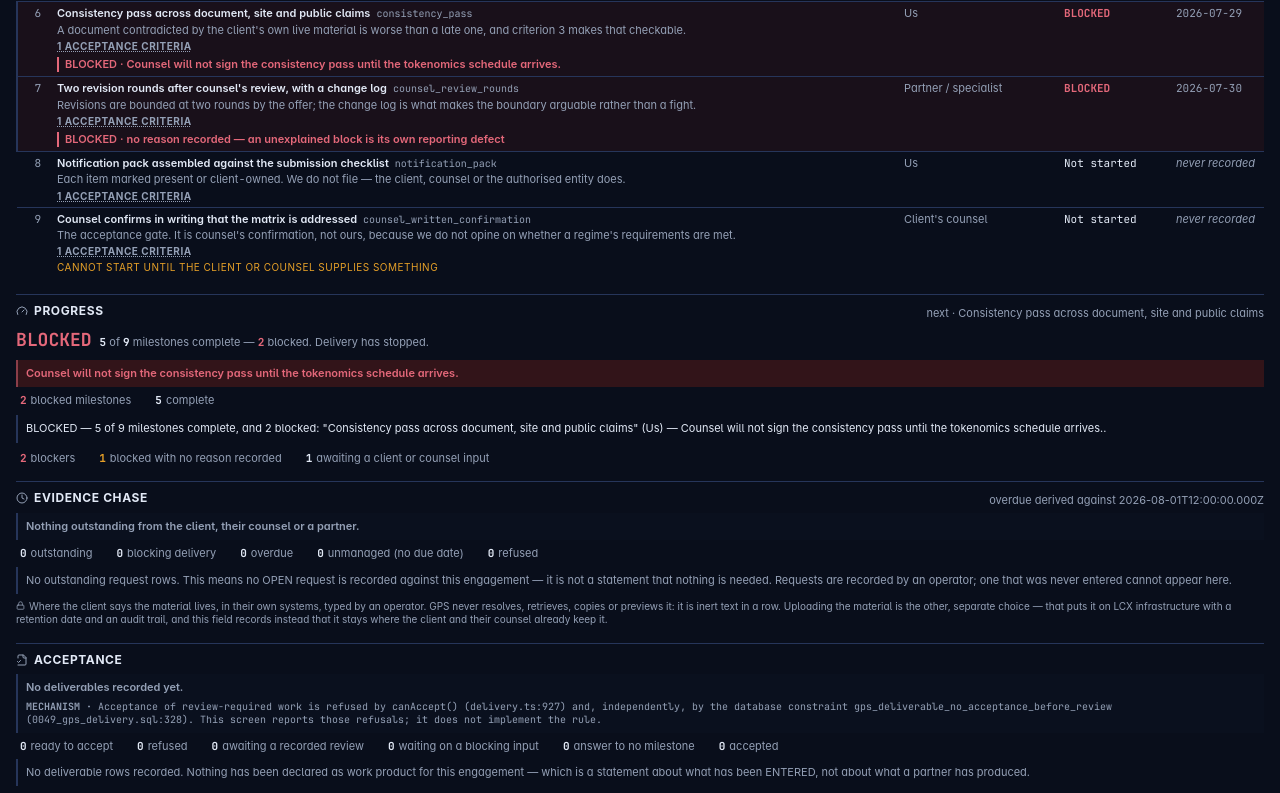
blocked is not a shade of not-started › keeps the arithmetic available in the drawer — refusing to lead with a number is not hiding it
This screenshot has width=1280, height=793.
(page scrolled)
Click the button with aria-label "5 complete — open the rows" at [185, 400], box top-left (151, 393), bottom-right (218, 407)
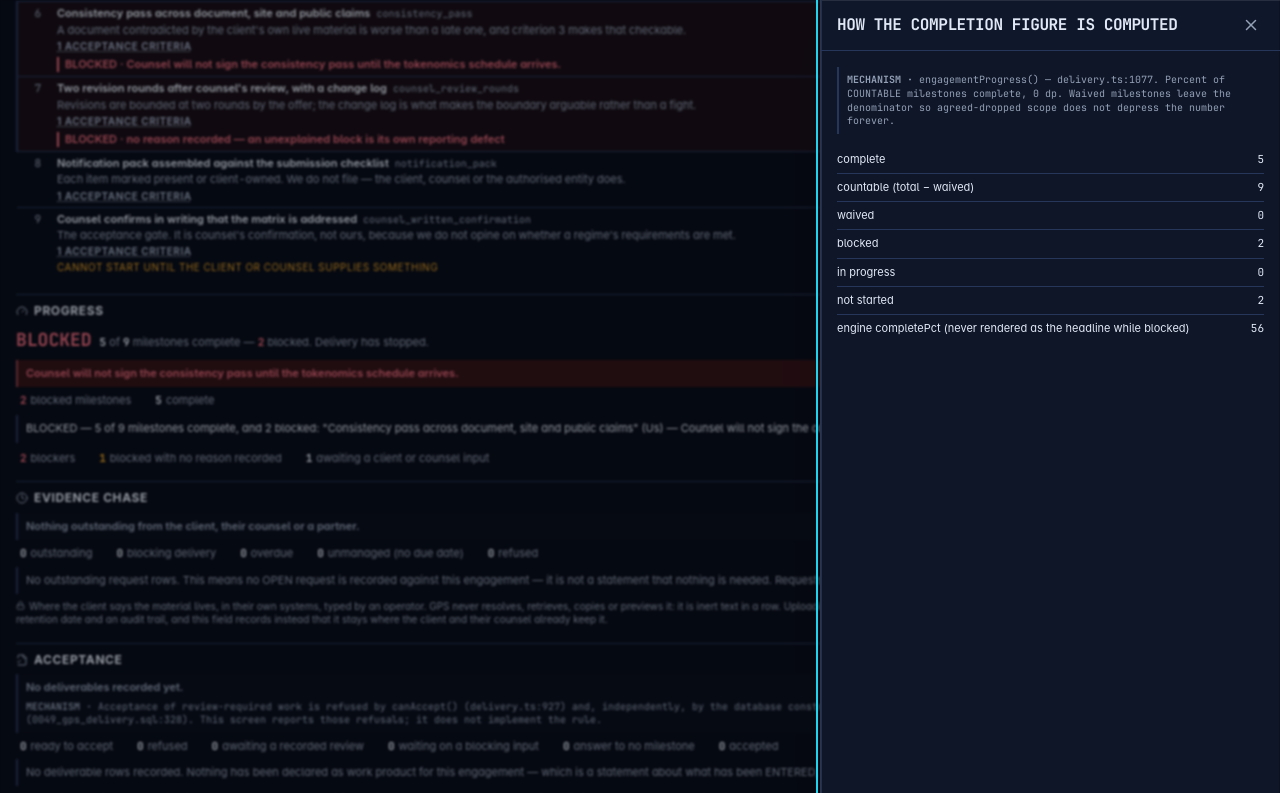
Now the dialog shows "countable (total − waived)", box top-left (837, 180), bottom-right (974, 194)
Now the dialog shows "never rendered as the headline while blocked", box top-left (837, 321), bottom-right (1190, 335)
Now the dialog shows "56", box top-left (1251, 321), bottom-right (1264, 335)
